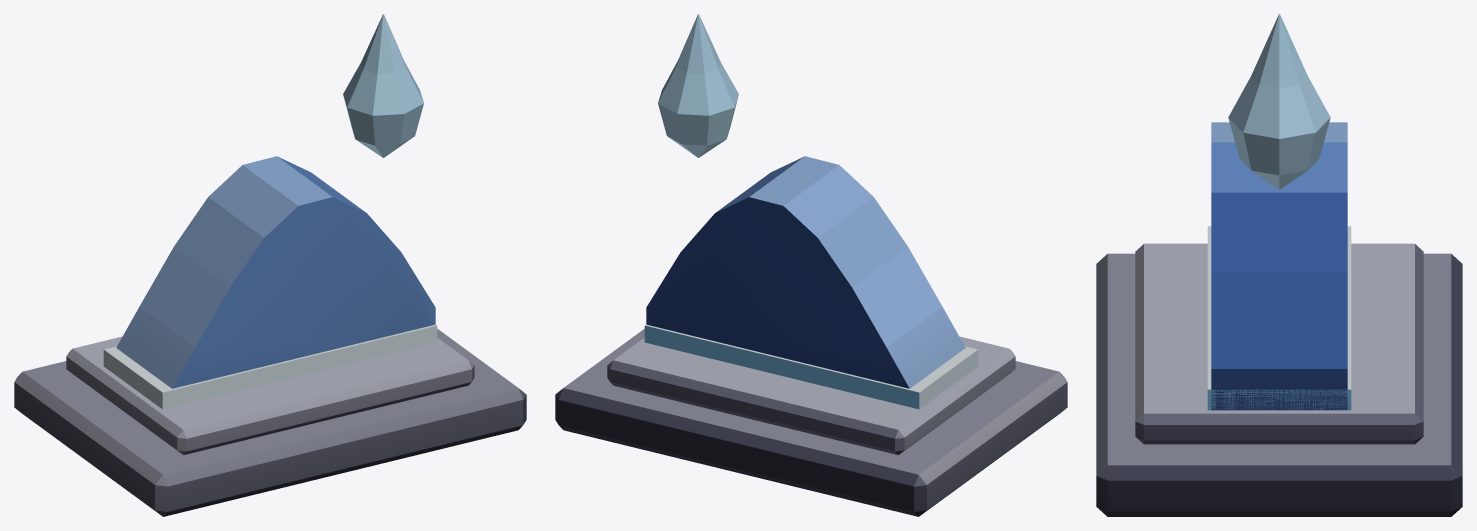
File: gym_top_water.glb
3 views of the same model, side by side, from view 1: azimuth 30°, elevation 25°; view 2: azimuth 150°, elevation 25°; view 3: azimuth 270°, elevation 25° (orthographic). The views are drawn at different scales.
Visible parts, largest first — view 1: gym_top_water; view 2: gym_top_water; view 3: gym_top_water.
Boxes of the visible parts, x1=… form: gym_top_water: x1=14, y1=14, x2=526, y2=516; gym_top_water: x1=555, y1=14, x2=1067, y2=516; gym_top_water: x1=1096, y1=14, x2=1462, y2=516.
Bounding box in the file's own units: 0.92 × 0.9 × 0.644.
